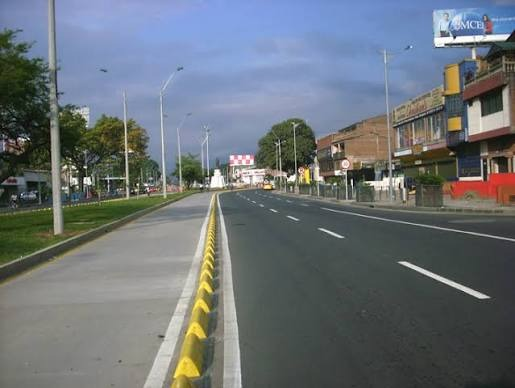car: (439, 176, 514, 206)
